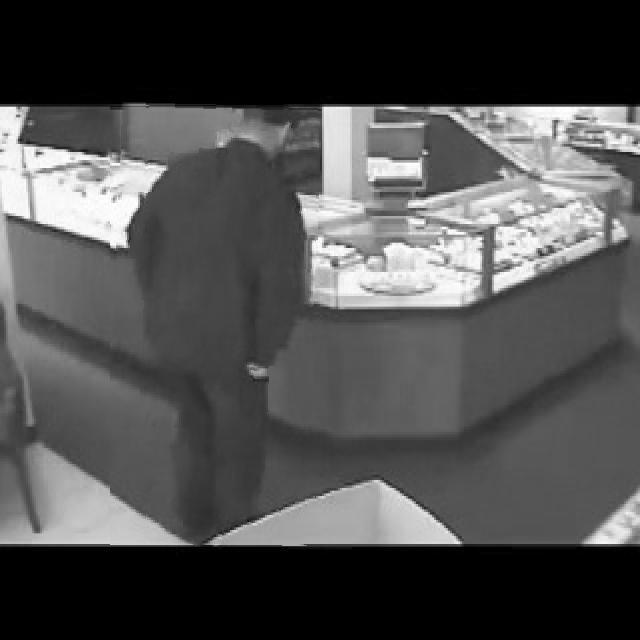Normal: (110, 103, 318, 545)
